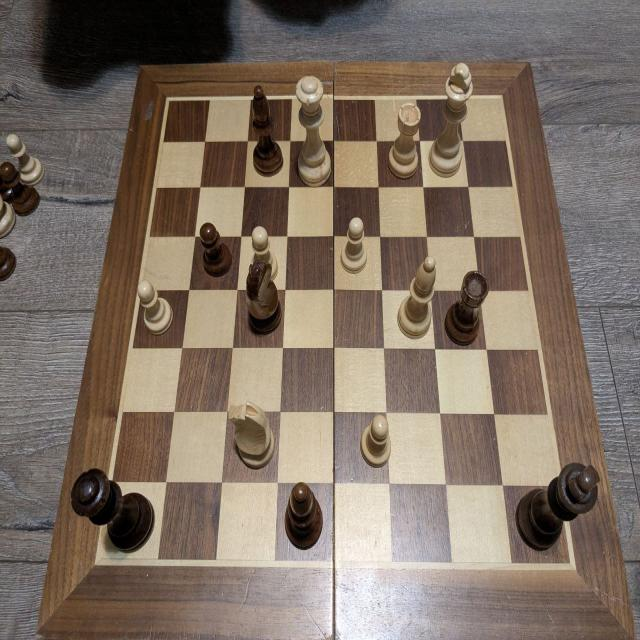black_bishop: (252, 84, 284, 175), (284, 481, 323, 550)
black_king: (516, 462, 601, 550)
black_knight: (246, 261, 282, 332)
black_pawn: (200, 220, 234, 283)
black_queen: (70, 468, 155, 552)
black_rook: (442, 270, 488, 346)
white_bishop: (397, 255, 437, 338)
white_king: (429, 63, 472, 176)
white_knight: (227, 398, 276, 471)
white_pawn: (136, 280, 173, 336), (249, 224, 278, 284), (360, 412, 392, 466), (341, 215, 368, 278)
white_queen: (295, 75, 332, 188)
white_rook: (387, 100, 421, 178)
